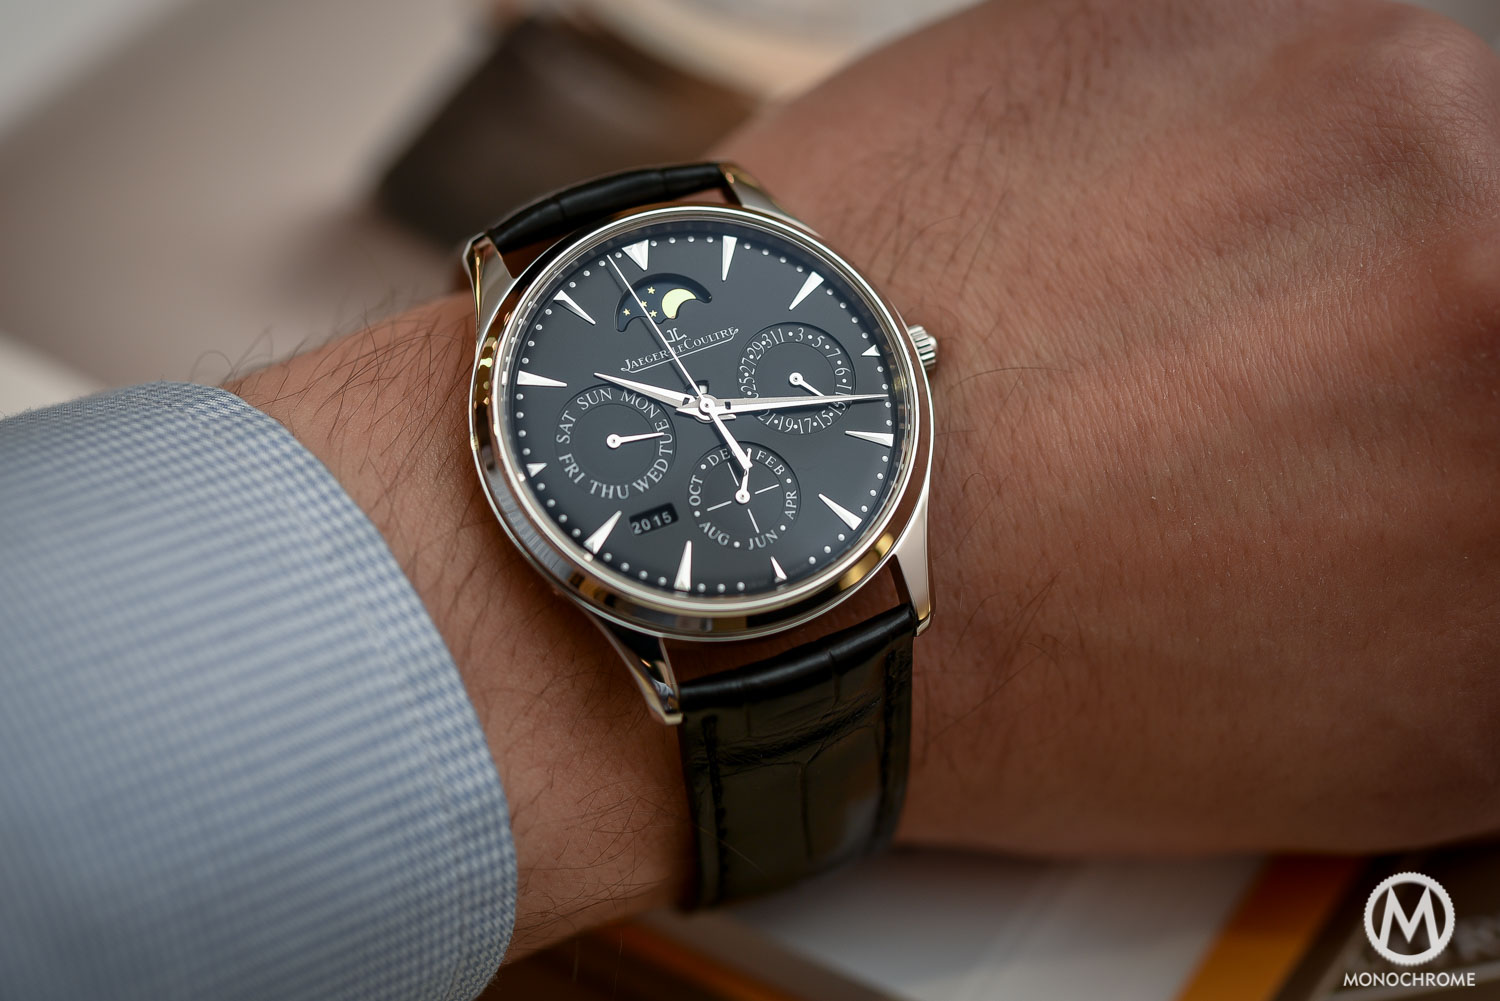clock: (514, 225, 900, 603)
